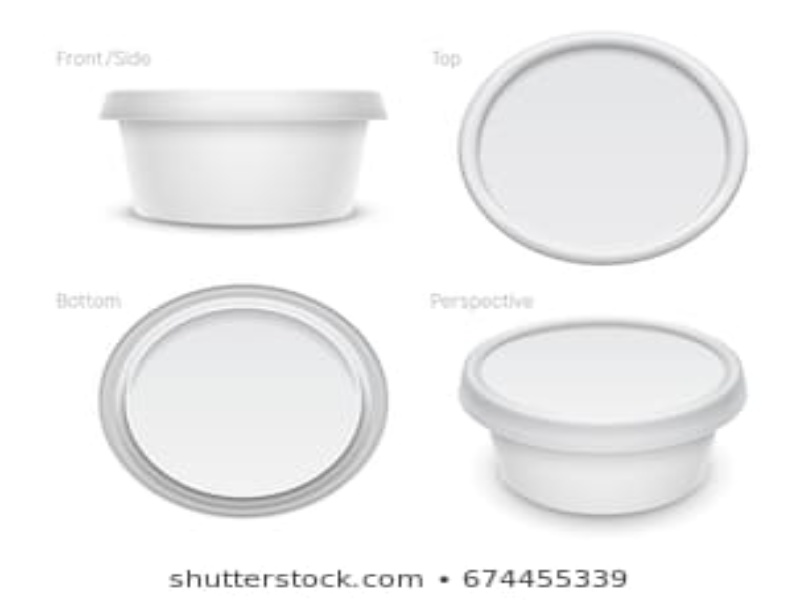plastic-container: (452, 315, 750, 524), (92, 79, 391, 230)
